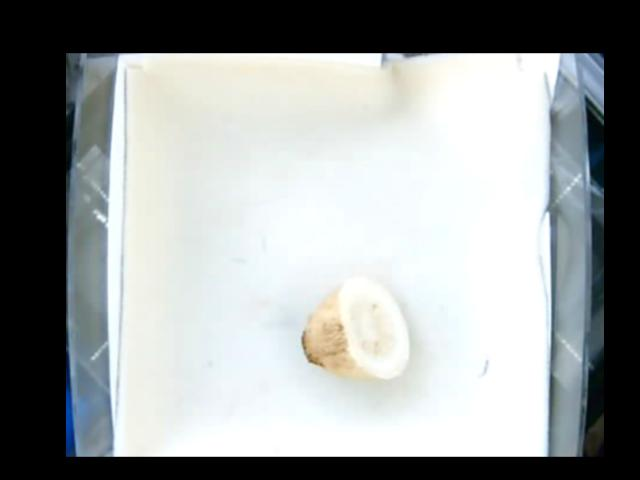Mooli: (298, 276, 411, 382)
